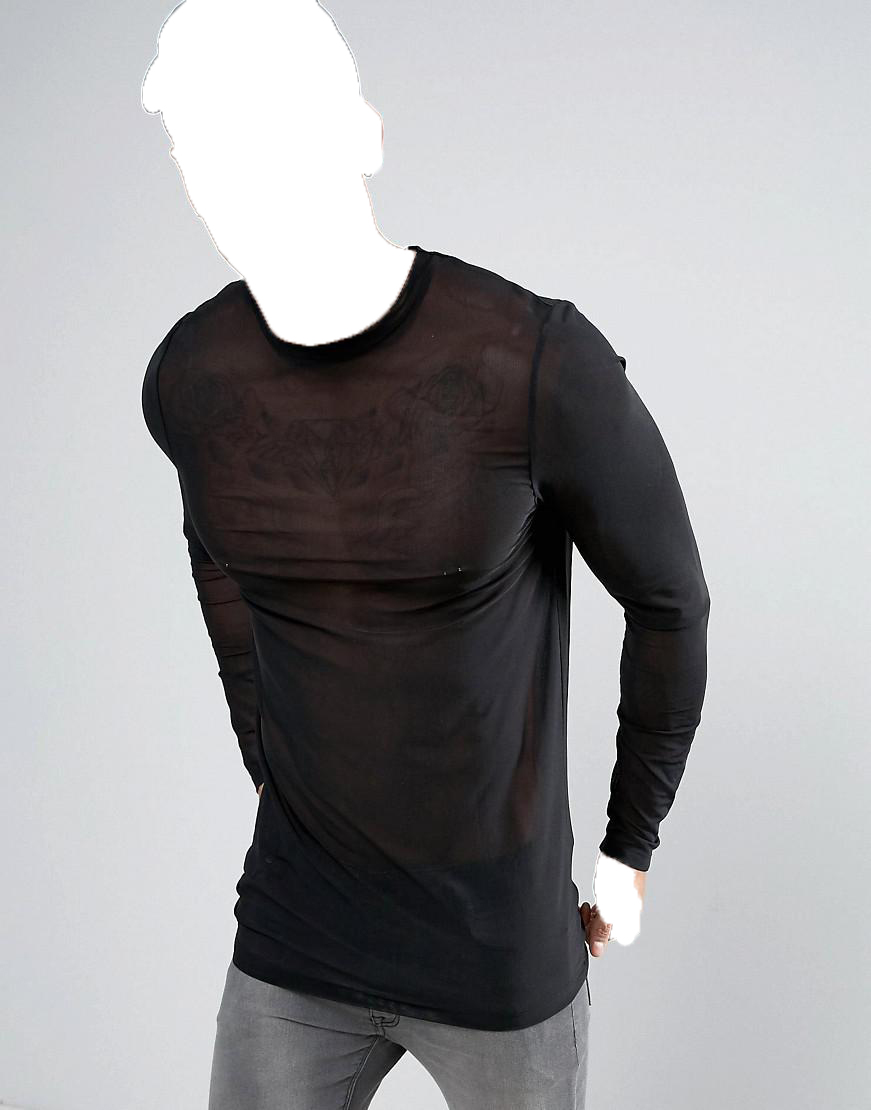teeshirt: (130, 249, 695, 1024)
